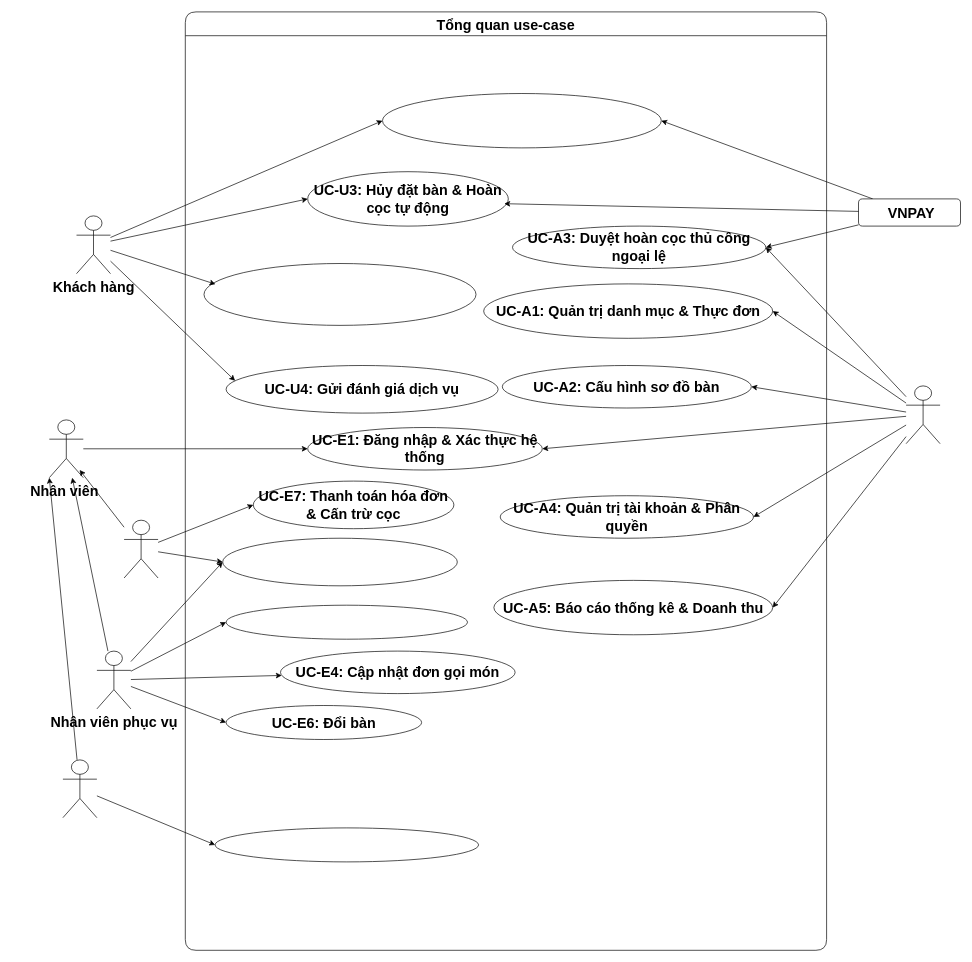
Some shapes in this 972 by 962 pixel diagram are drawn without their labels. Each missing label, with the centre of its shape:
Nhân viên điều phối: pixel 79 788
Quản lý: pixel 922 414
Thu ngân: pixel 140 549
UC-E2: Check-in nhận bàn: pixel 339 562
UC-E3: Tạo đơn gọi món tại bàn: pixel 346 622
UC-E5: Xác nhận ra món: pixel 346 844
UC-U1: Đặt bàn & Đặt cọc trực tuyến: pixel 521 120
UC-U2: Xem thực đơn & Yêu cầu phục vụ qua QR: pixel 339 294
